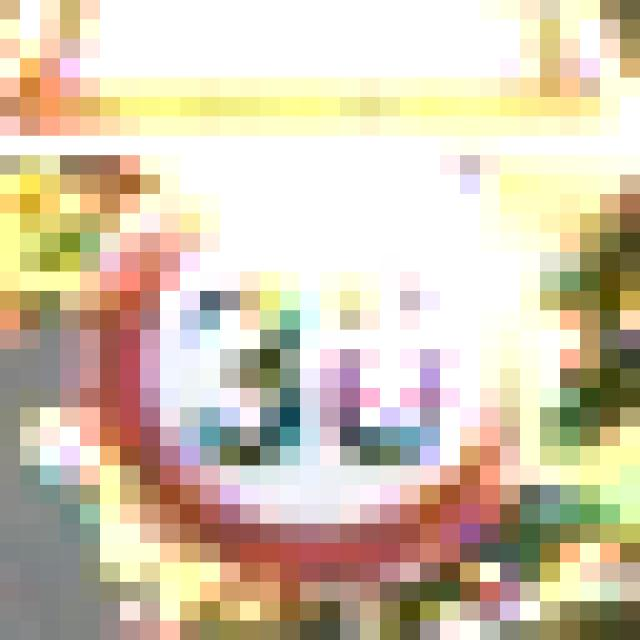Speed Limit -30-: (90, 107, 510, 533)
